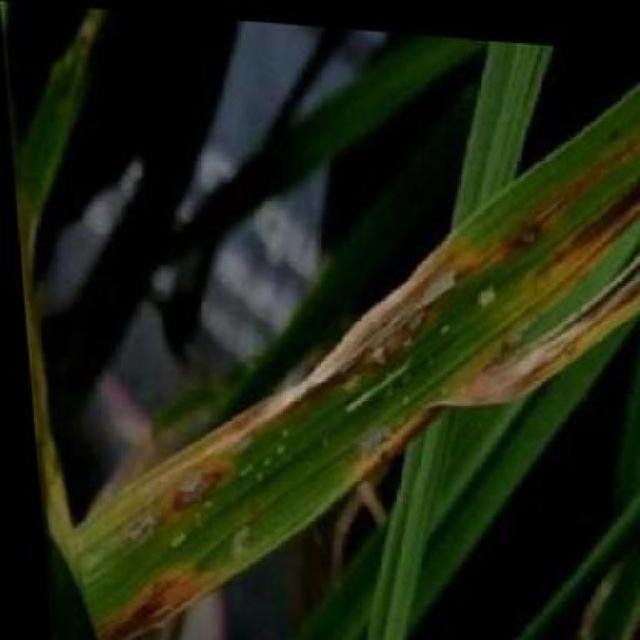Bacterial_Leaf_Blight: (161, 447, 225, 535), (117, 502, 161, 566)
